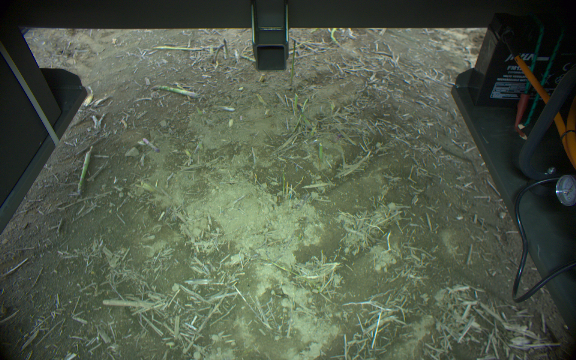aspa: (74, 145, 95, 196), (149, 82, 201, 101), (289, 39, 298, 83), (210, 44, 224, 62), (223, 37, 229, 59)
